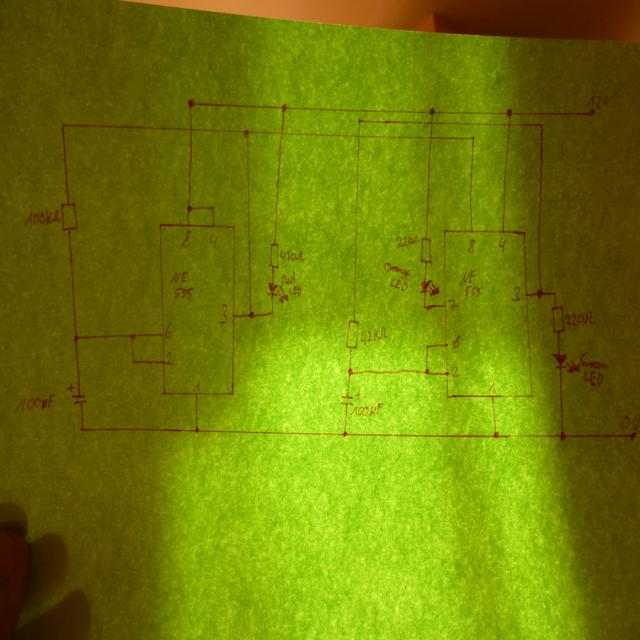capacitor: (66, 382, 86, 404), (340, 388, 360, 407)
crossover: (278, 128, 284, 137), (428, 134, 434, 142), (188, 124, 194, 132), (356, 132, 362, 139), (506, 120, 512, 127), (429, 118, 434, 126)
diode: (552, 352, 580, 372), (266, 282, 288, 304), (418, 279, 439, 296)
junction: (558, 430, 567, 442), (187, 96, 195, 108), (346, 366, 354, 378), (492, 430, 501, 440), (505, 106, 512, 118), (536, 288, 543, 300), (242, 128, 250, 137), (428, 106, 435, 116), (280, 102, 287, 112), (185, 203, 192, 213), (341, 429, 348, 439), (193, 425, 200, 435), (128, 332, 136, 340), (248, 310, 255, 319), (423, 367, 430, 376), (551, 288, 558, 297), (78, 425, 85, 433), (539, 120, 545, 129), (73, 334, 79, 342), (210, 203, 216, 211), (470, 133, 476, 141), (357, 116, 362, 124), (422, 302, 427, 310), (130, 358, 136, 364), (60, 122, 65, 128), (269, 309, 274, 315), (424, 343, 429, 349)
resistor: (60, 200, 78, 232), (345, 318, 359, 349), (550, 304, 564, 334), (419, 236, 432, 263), (268, 241, 278, 269)
terminal: (628, 431, 637, 442), (587, 108, 596, 118)
text: (579, 351, 609, 386), (13, 393, 55, 412), (383, 262, 410, 290), (169, 270, 194, 300), (458, 269, 483, 297), (24, 208, 60, 227), (280, 270, 301, 297), (360, 326, 388, 344), (585, 91, 616, 107), (351, 402, 384, 417), (565, 310, 595, 326), (396, 233, 418, 247), (620, 414, 640, 429), (279, 249, 303, 261), (218, 303, 228, 323), (181, 228, 191, 248), (208, 231, 219, 249), (510, 284, 521, 302), (497, 236, 506, 252), (466, 236, 474, 253), (164, 351, 173, 366), (448, 298, 458, 311), (450, 364, 460, 377), (164, 322, 172, 338), (452, 334, 461, 348), (488, 381, 496, 393), (192, 380, 200, 392)
